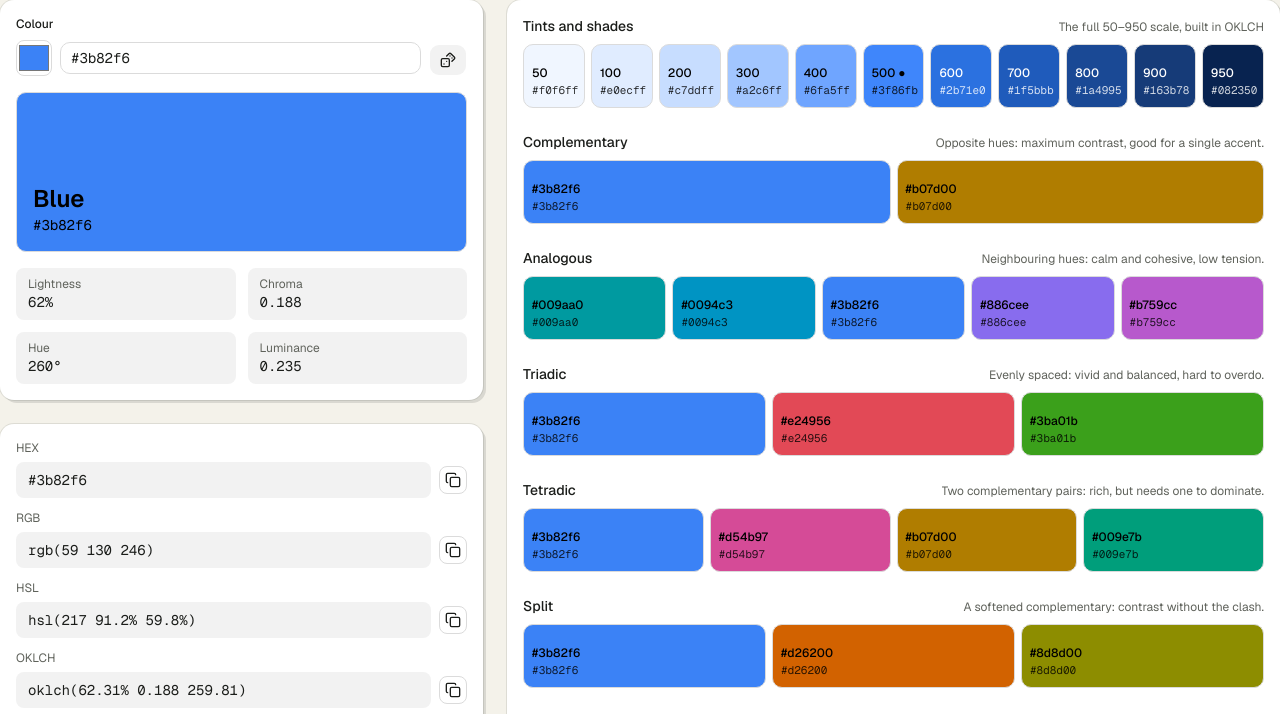
Test: ColourAtlasTool › redraws everything for a newly typed colour
Replace the text in the field labelled "Colour" with "#ff0000" at (241, 58), box [60,42,421,74]
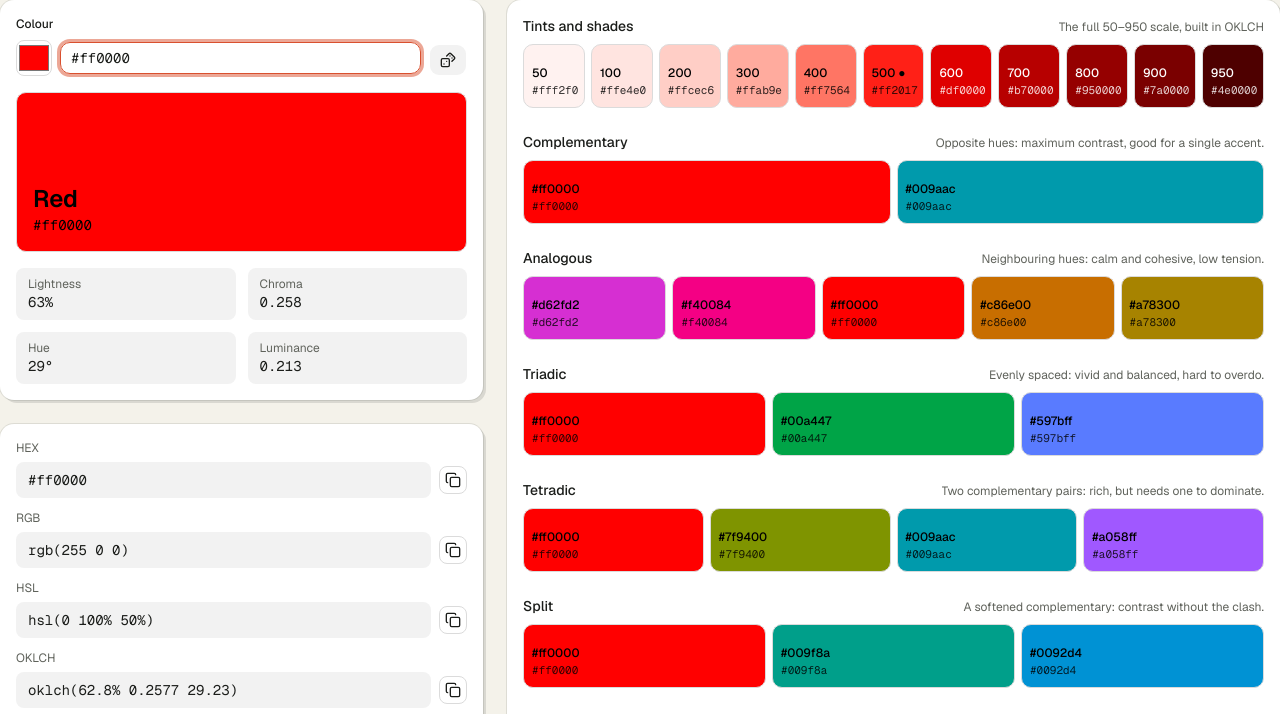
Now the text "red" is shown, box [33,183,78,214]
